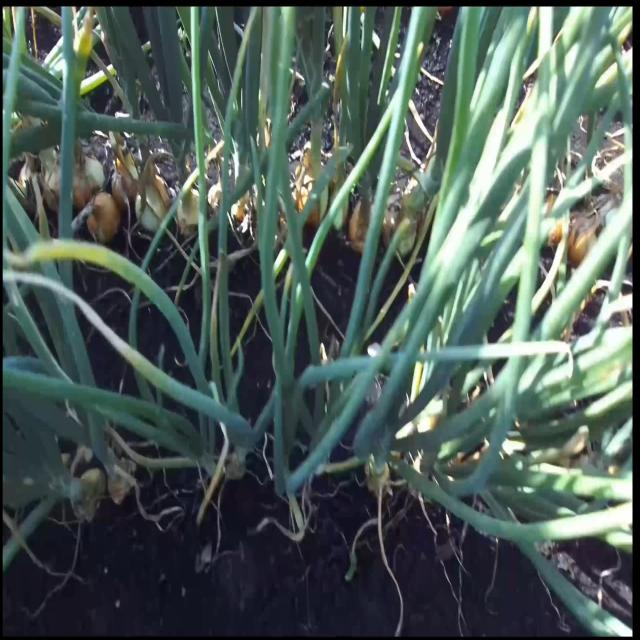onion: (66, 153, 104, 210)
